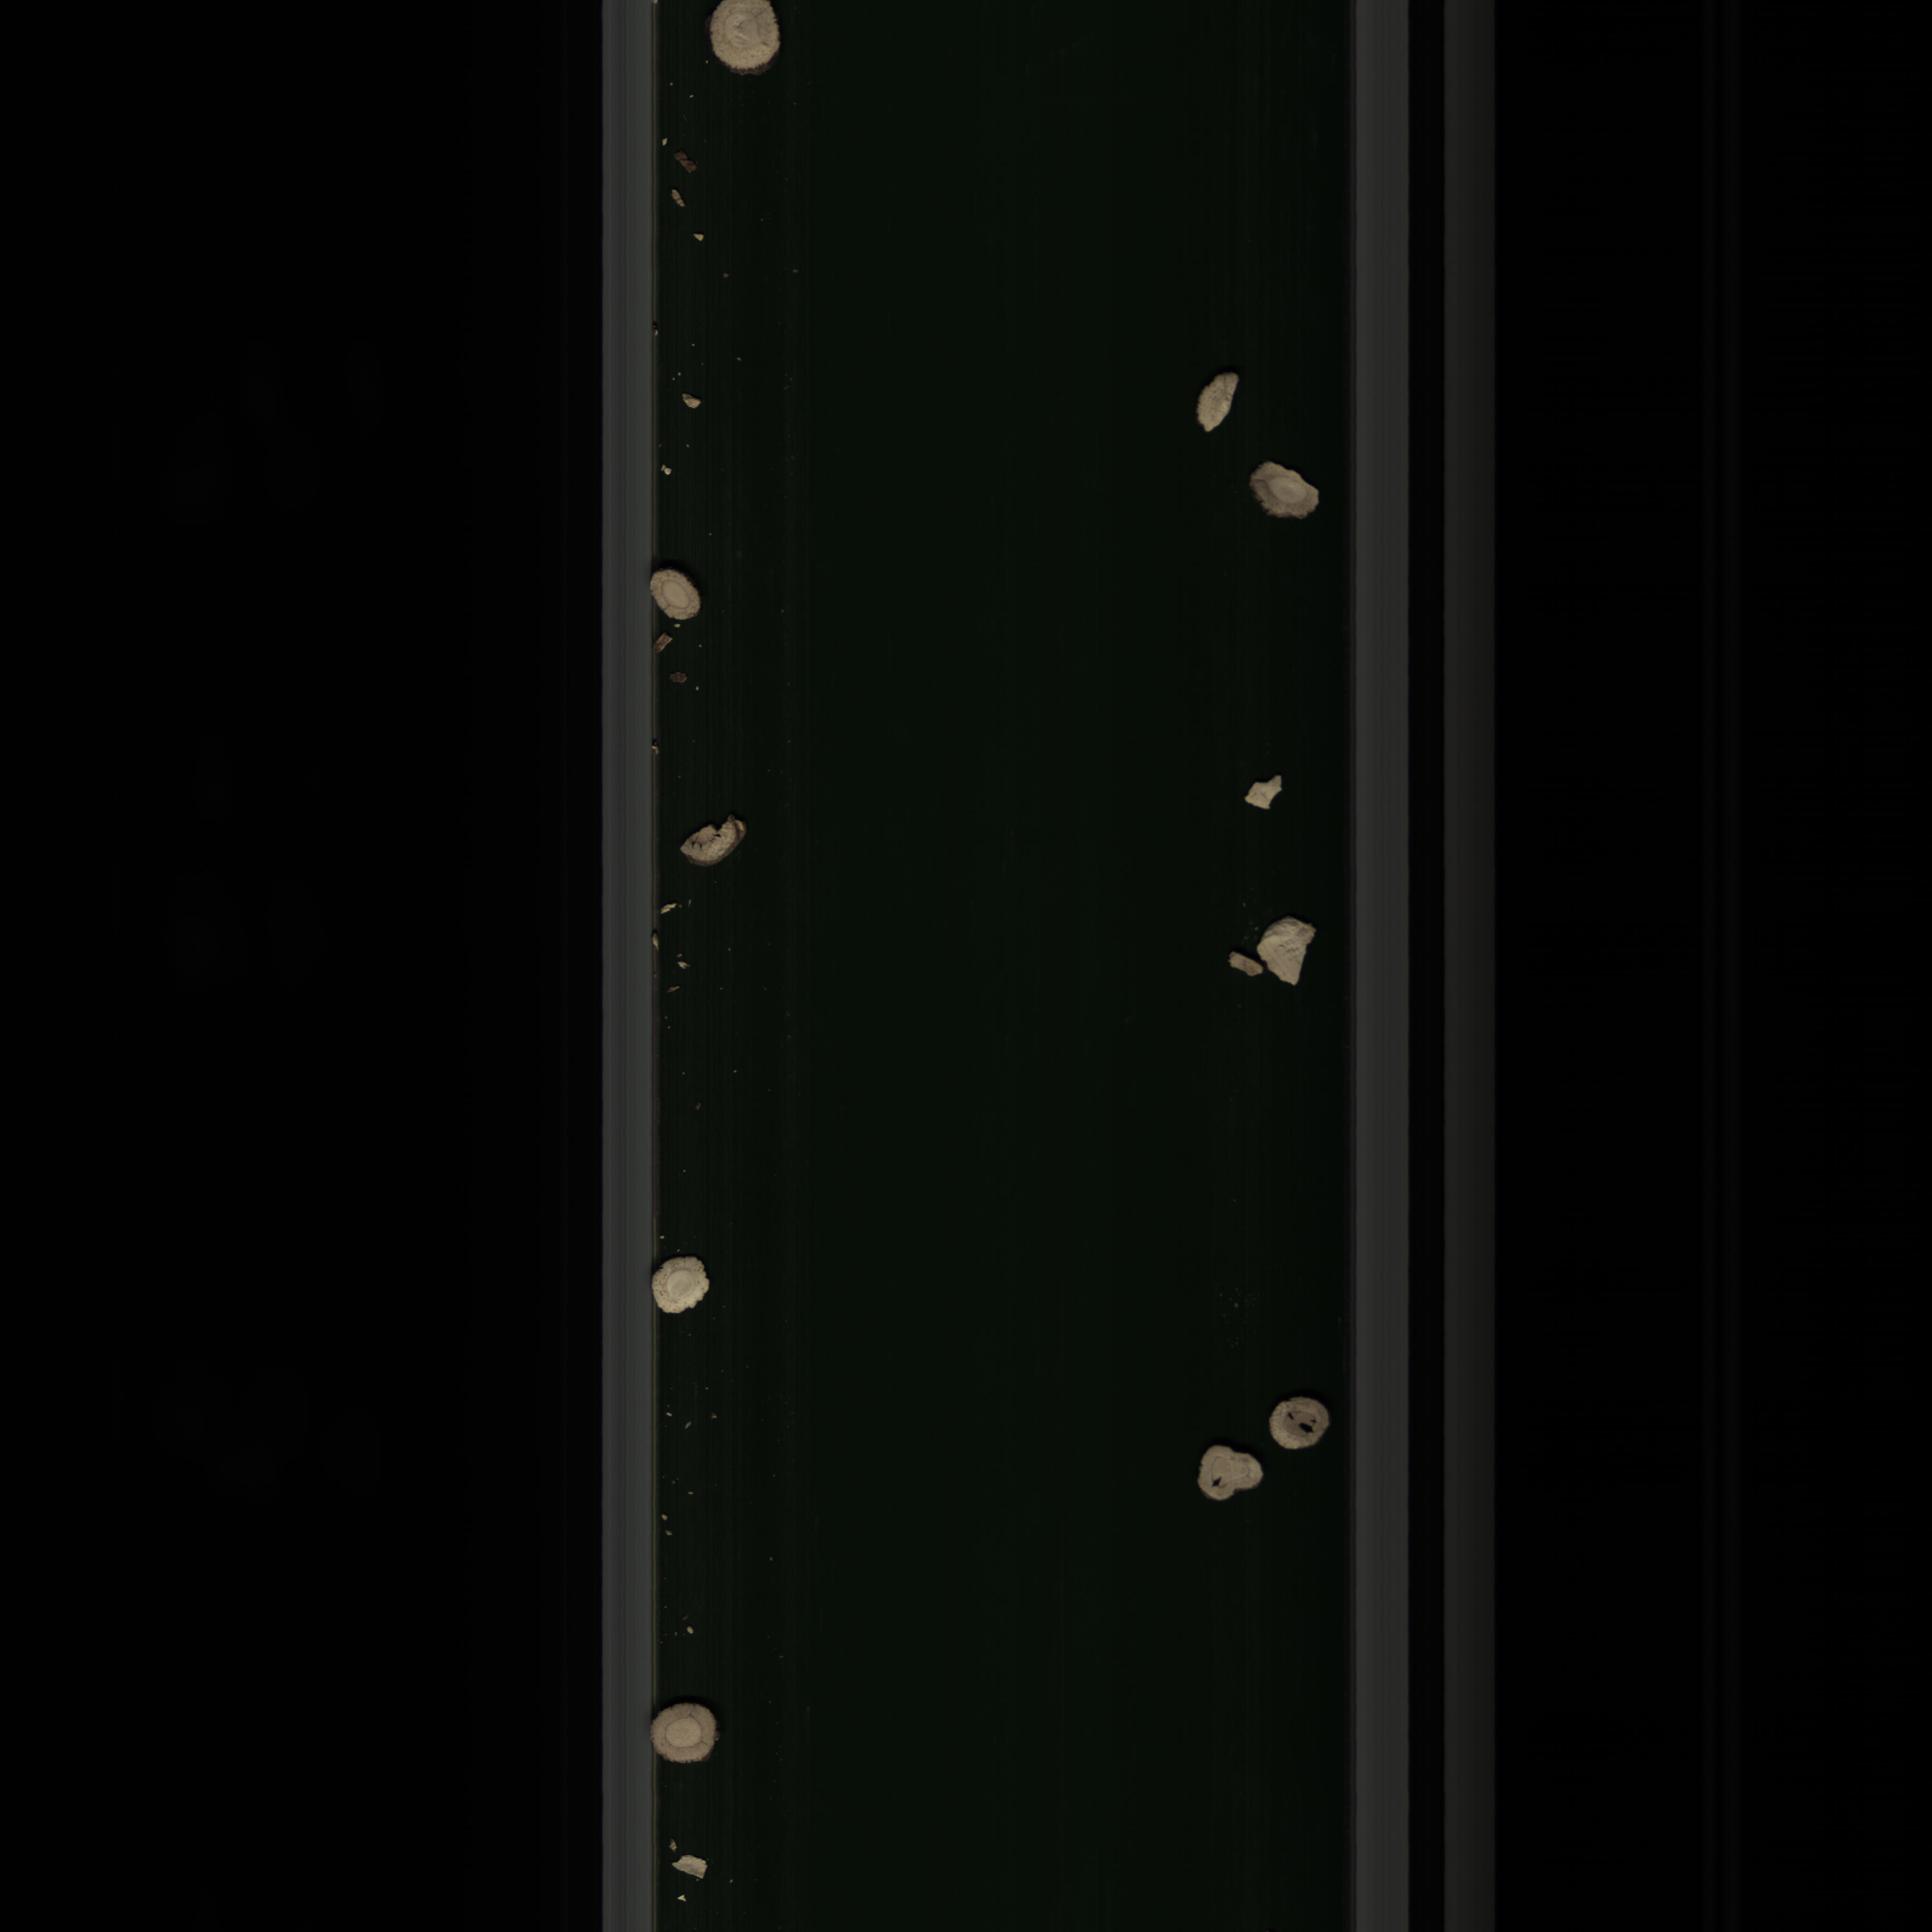debris: (1246, 455, 1332, 527), (1247, 916, 1327, 987), (1189, 372, 1251, 437), (1240, 763, 1292, 814), (667, 1836, 717, 1881), (1214, 943, 1261, 987)
hole: (1194, 1445, 1265, 1509), (1261, 1392, 1332, 1449)
moldy: (672, 814, 755, 872)
